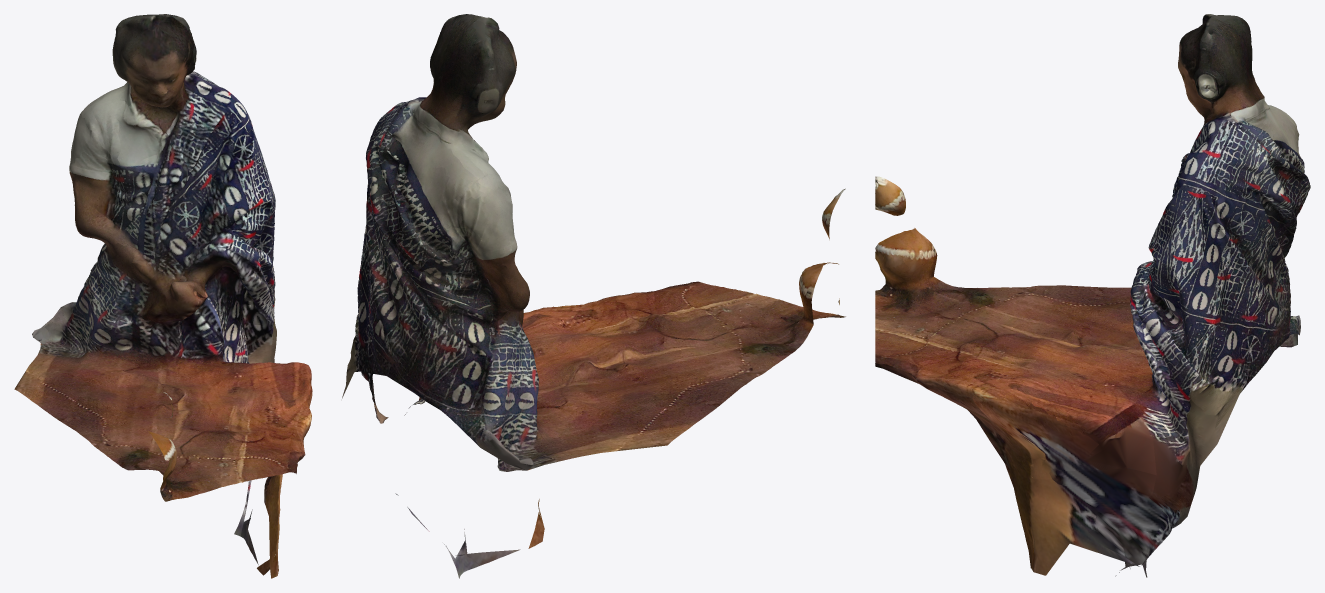
The picture shows the model from 3 angles, left to right: view 1: azimuth 30°, elevation 25°; view 2: azimuth 150°, elevation 25°; view 3: azimuth 270°, elevation 25°; orthographic projection. The views are drawn at different scales.
Parts seen in each view (by area): view 1: geom; view 2: geom; view 3: geom.
Part boxes in pixels (x1=…): geom: x1=14, y1=14, x2=312, y2=578; geom: x1=342, y1=14, x2=845, y2=578; geom: x1=875, y1=14, x2=1310, y2=577.
Size of the model in its own units: 0.9509 by 1.75 by 1.29.
Materials: 1 (1 with a texture image).
